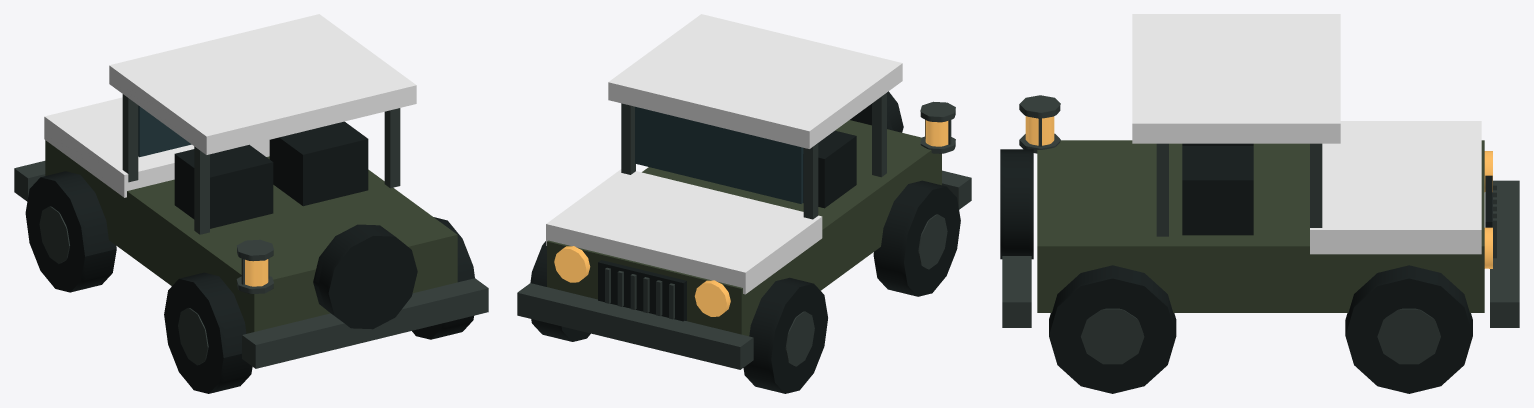
Rendered from jeep.glb.
3 views of the same model, side by side, from view 1: azimuth 30°, elevation 25°; view 2: azimuth 150°, elevation 25°; view 3: azimuth 270°, elevation 25° (orthographic). The views are drawn at different scales.
Visible parts, largest first — view 1: CamoRoof, Chassis, SpareWheel, RearBumper, Wheel, Wheel2, Hood, Seat2, Seat, Windshield, Wheel4, CabinPost (+7 smaller); view 2: CamoRoof, Hood, Chassis, Windshield, FrontBumper, Wheel2, Wheel, Grille, Seat, Wheel3, RearCabinPost, WheelHub (+9 smaller); view 3: Chassis, CamoRoof, Hood, Wheel3, Wheel4, Seat2, FrontBumper, SpareWheel, WheelHub4, WheelHub3, RearBumper, RearCabinPost2 (+3 smaller).
Part boxes in pixels (x1,y1,x2,y2): CamoRoof: [109, 14, 416, 154]; Chassis: [45, 140, 457, 333]; SpareWheel: [313, 224, 417, 329]; RearBumper: [242, 278, 488, 368]; Wheel: [25, 171, 116, 292]; Wheel2: [164, 272, 252, 393]; Hood: [44, 97, 269, 197]; Seat2: [269, 121, 368, 206]; Seat: [174, 144, 273, 228]; Windshield: [138, 105, 191, 157]; Wheel4: [412, 217, 474, 339]; CabinPost: [122, 94, 138, 182]; CamoRoof: [608, 14, 902, 148]; Hood: [546, 169, 822, 294]; Chassis: [547, 120, 941, 336]; Windshield: [635, 106, 803, 203]; FrontBumper: [517, 283, 753, 369]; Wheel2: [873, 180, 960, 296]; Wheel: [743, 277, 827, 393]; Grille: [598, 260, 686, 321]; Seat: [803, 130, 856, 208]; Wheel3: [530, 241, 590, 341]; RearCabinPost: [872, 93, 886, 177]; WheelHub: [785, 311, 814, 366]; Chassis: [1037, 140, 1484, 312]; CamoRoof: [1132, 14, 1340, 143]; Hood: [1310, 121, 1481, 254]; Wheel3: [1345, 265, 1472, 393]; Wheel4: [1049, 265, 1176, 393]; Seat2: [1182, 146, 1253, 235]; FrontBumper: [1490, 180, 1519, 327]; SpareWheel: [1000, 149, 1033, 259]; WheelHub4: [1080, 308, 1144, 364]; WheelHub3: [1377, 308, 1440, 364]; RearBumper: [1002, 256, 1031, 327]; RearCabinPost2: [1156, 143, 1168, 236].
Size of the model in its own units: 2.58 by 2.33 by 4.24.
